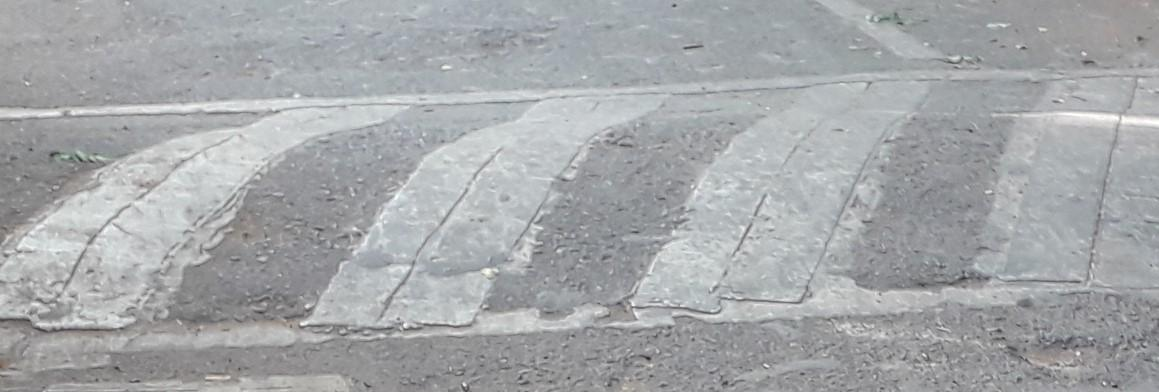speed-bump: (1, 64, 1156, 332)
